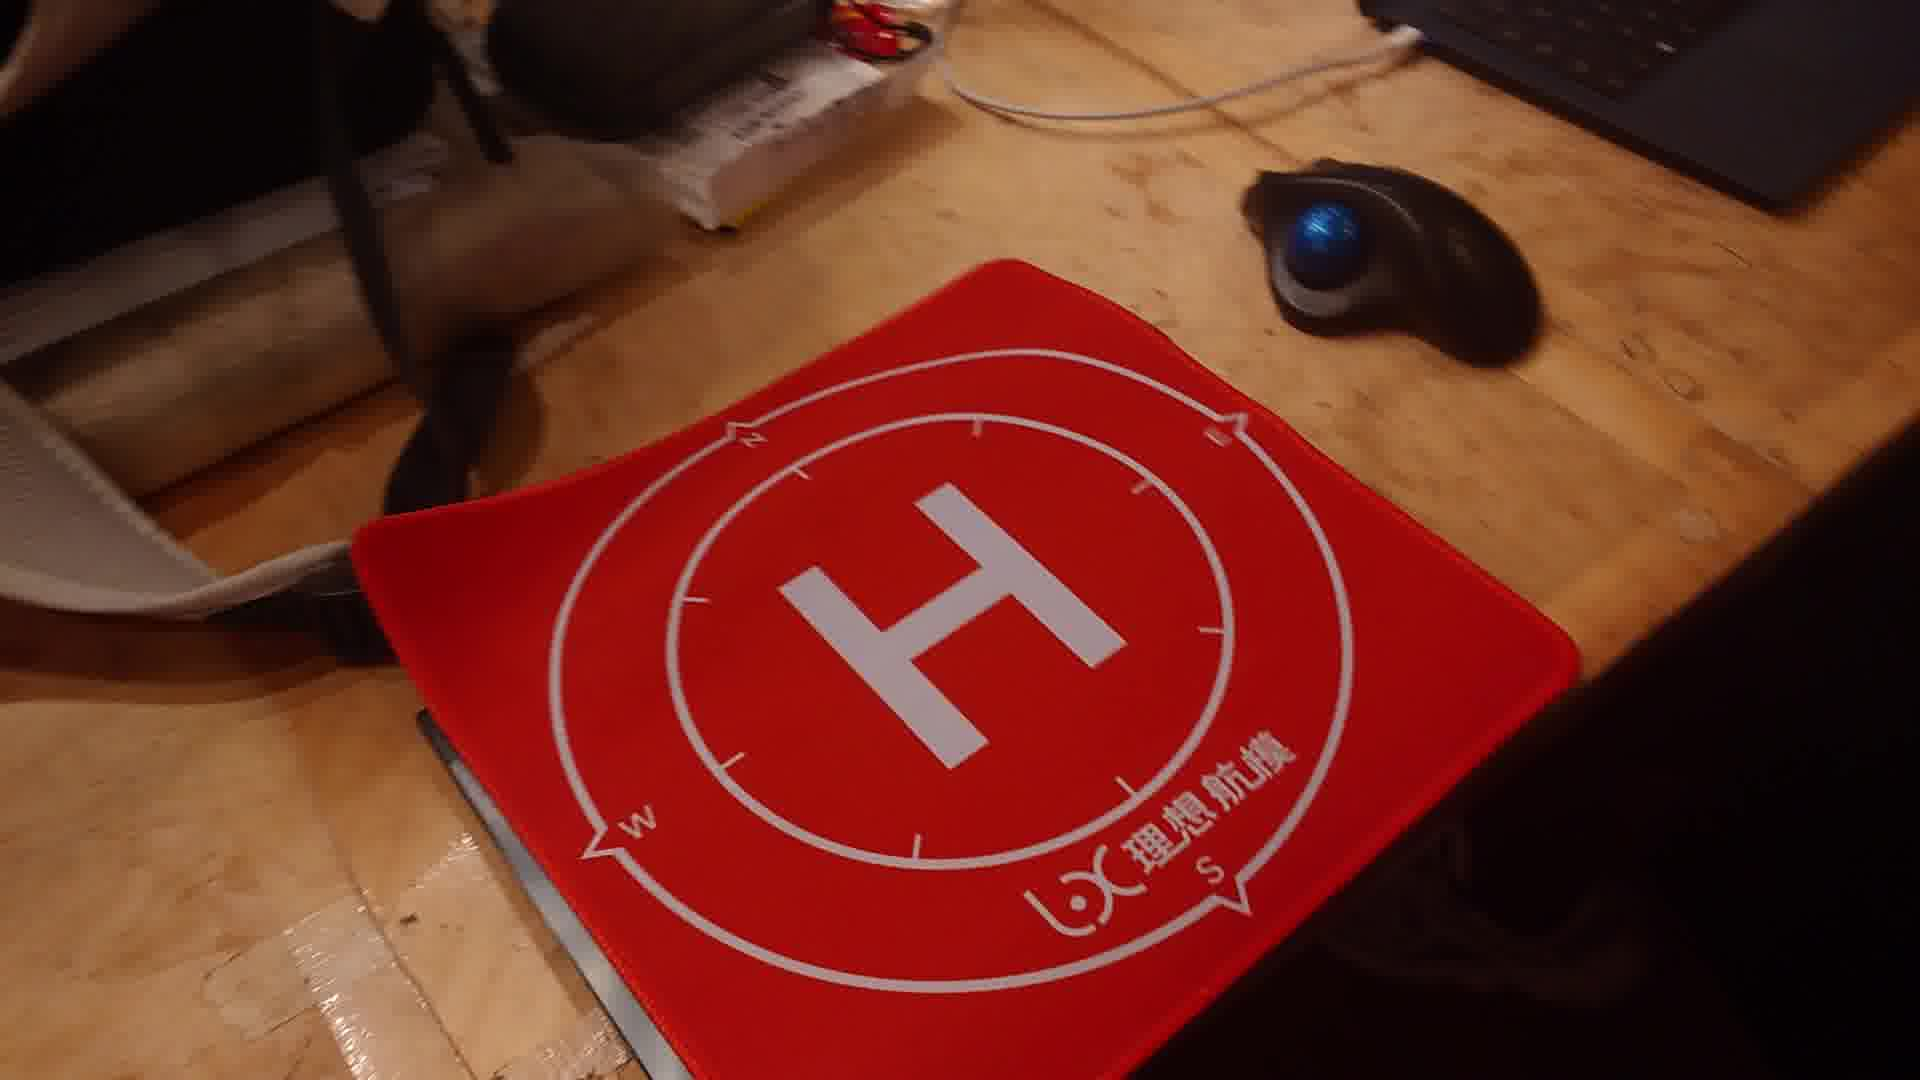H: (773, 480, 1131, 771)
